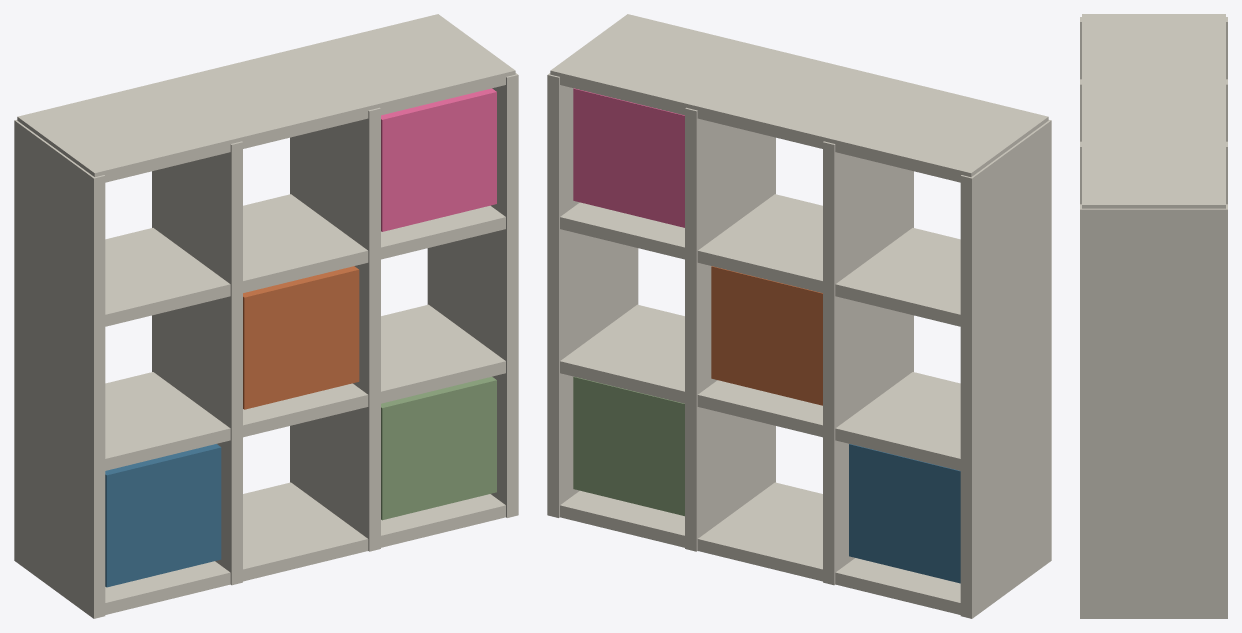
The model's file is cube_shelf.glb.
The picture shows the model from 3 angles, left to right: view 1: azimuth 30°, elevation 25°; view 2: azimuth 150°, elevation 25°; view 3: azimuth 270°, elevation 25°; orthographic projection. The views are drawn at different scales.
Parts seen in each view (by area): view 1: cube_shelf; view 2: cube_shelf; view 3: cube_shelf.
Boxes of the visible parts, x1,y1,x2,y2 form: cube_shelf: (14,14,518,618); cube_shelf: (547,14,1051,618); cube_shelf: (1080,14,1227,618).
Bounding box in the file's own units: 1.11 × 1.11 × 0.36.
